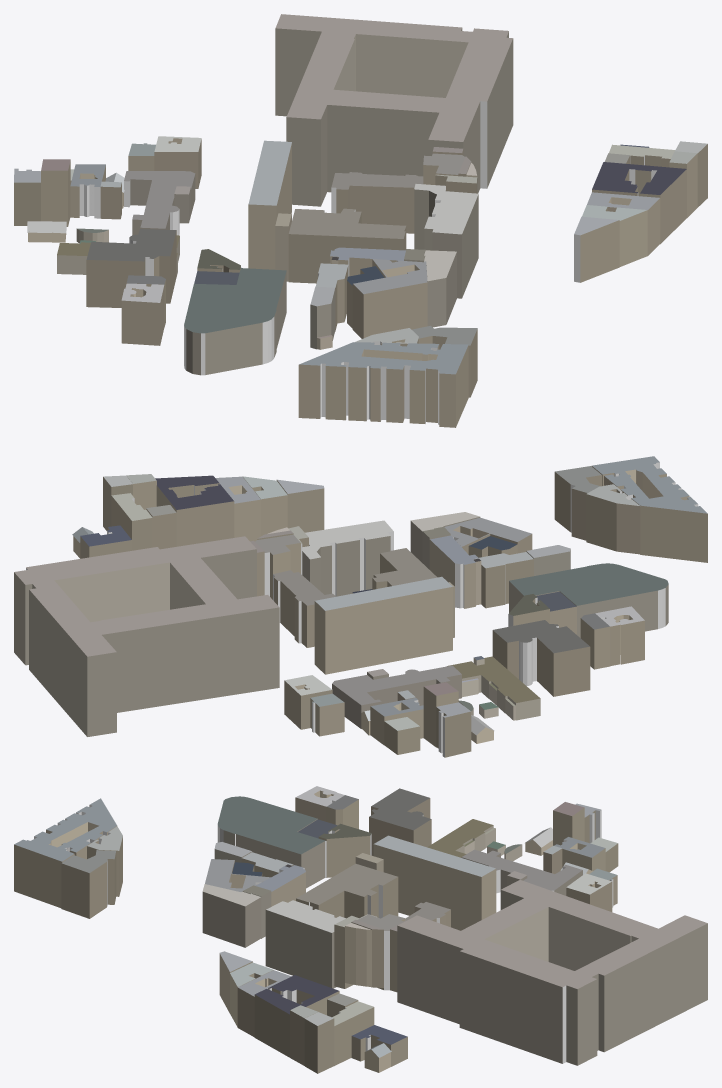
The picture shows the model from 3 angles, top to bottom: view 1: azimuth 30°, elevation 25°; view 2: azimuth 150°, elevation 25°; view 3: azimuth 270°, elevation 25°; orthographic projection. The views are drawn at different scales.
Parts seen in each view (by area): view 1: tuile; view 2: tuile; view 3: tuile.
Part boxes in pixels (x1=…): tuile: x1=14, y1=14, x2=707, y2=427; tuile: x1=14, y1=456, x2=707, y2=757; tuile: x1=14, y1=786, x2=707, y2=1073.
Size of the model in its own units: 268 by 38.01 by 312.
